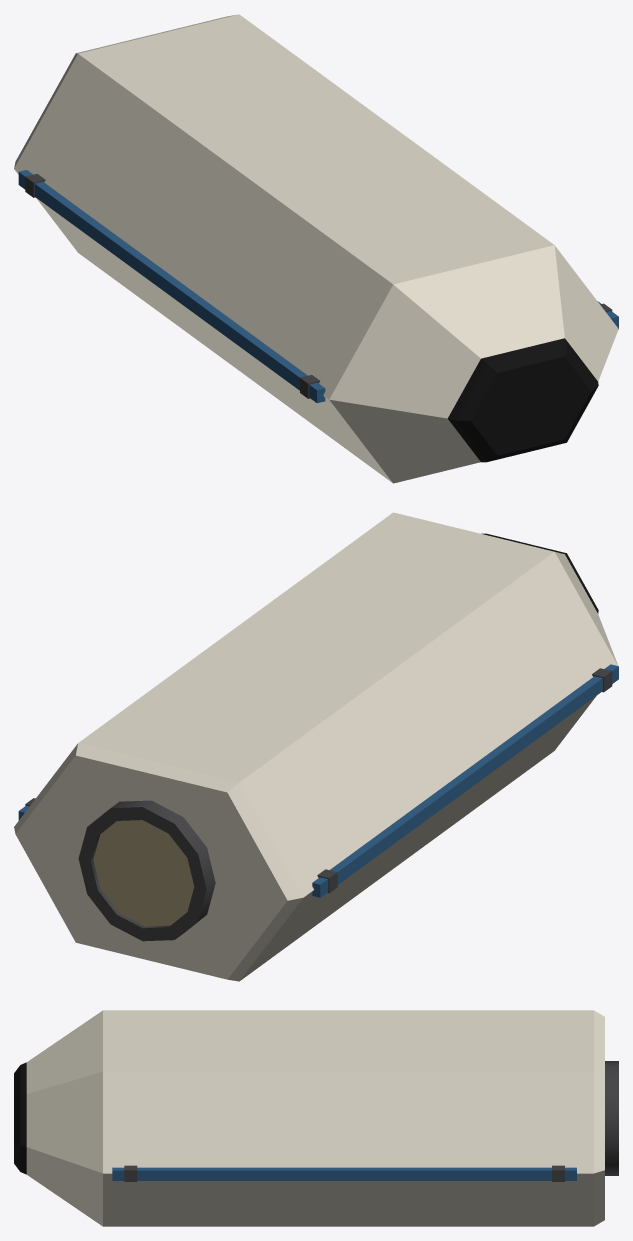
Rendered from boat20_hull.obj.
The picture shows the model from 3 angles, top to bottom: view 1: azimuth 30°, elevation 25°; view 2: azimuth 150°, elevation 25°; view 3: azimuth 270°, elevation 25°; orthographic projection. The views are drawn at different scales.
Visible parts, largest first — view 1: boat20_hull; view 2: boat20_hull; view 3: boat20_hull.
Part boxes in pixels (left/top/right/bottom): boat20_hull: left=14, top=14, right=618, bottom=483; boat20_hull: left=14, top=512, right=618, bottom=981; boat20_hull: left=14, top=1010, right=618, bottom=1226.
Bounding box in the file's own units: 2.94 × 1.84 × 6.51.
